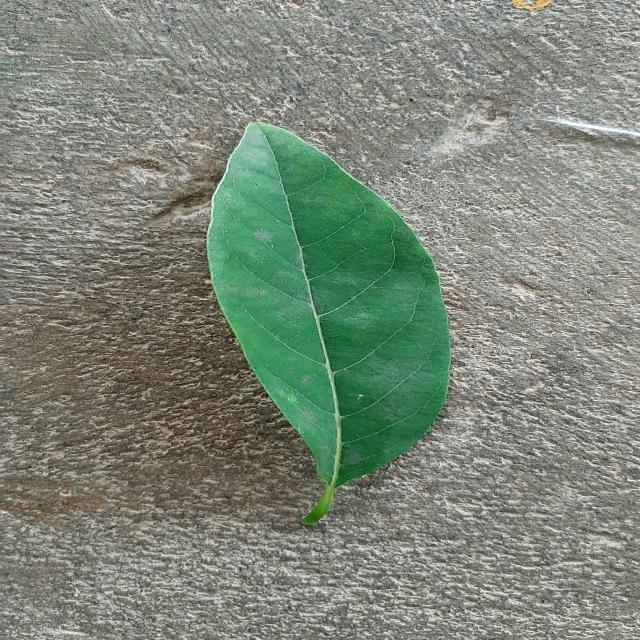seethaphala: (209, 122, 450, 525)
